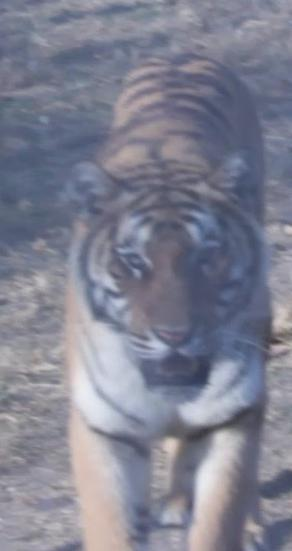tiger: (67, 50, 271, 550)
